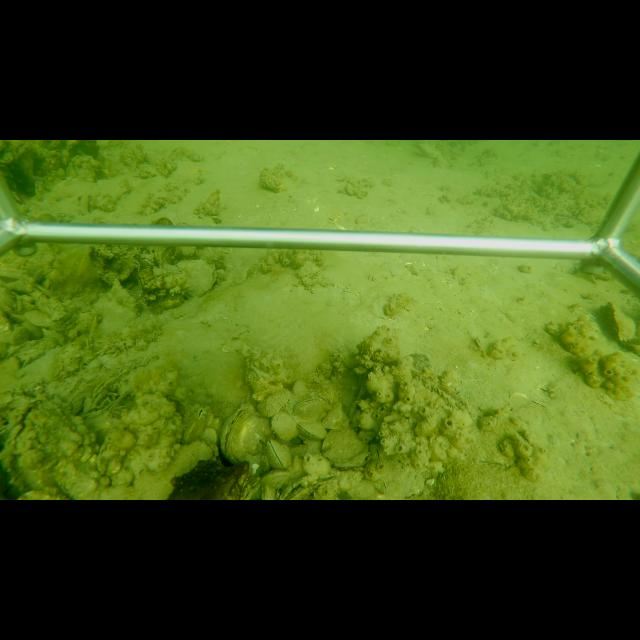Oyster-Closed: (220, 404, 269, 466), (320, 428, 370, 470), (177, 258, 218, 298), (108, 278, 142, 315), (608, 302, 635, 344), (269, 410, 302, 442), (259, 386, 292, 416), (294, 394, 331, 419), (264, 439, 293, 470), (297, 421, 326, 440), (244, 478, 263, 500), (260, 484, 270, 499)
Oyster-Open: (9, 396, 95, 488), (276, 472, 349, 499)
